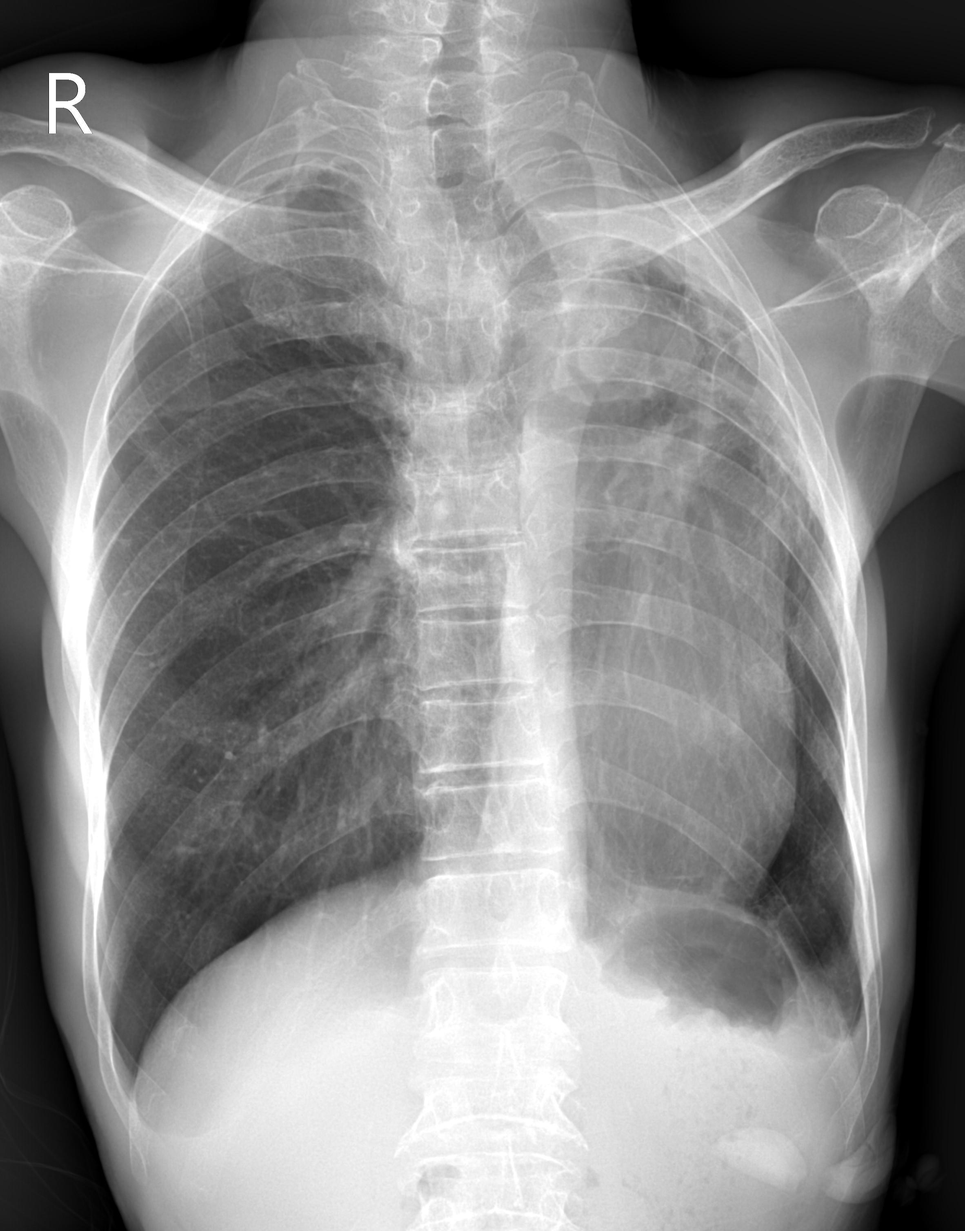Pleural thickening: (541, 125, 744, 301), (827, 986, 875, 1073)
Pulmonary fibrosis: (570, 232, 820, 636)
